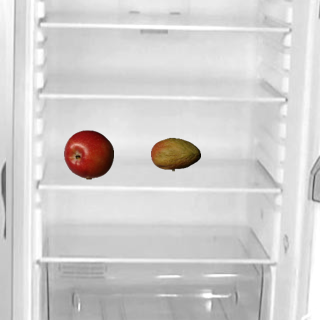Apple Braeburn: (63, 129, 113, 179)
Papaya: (150, 129, 200, 179)
